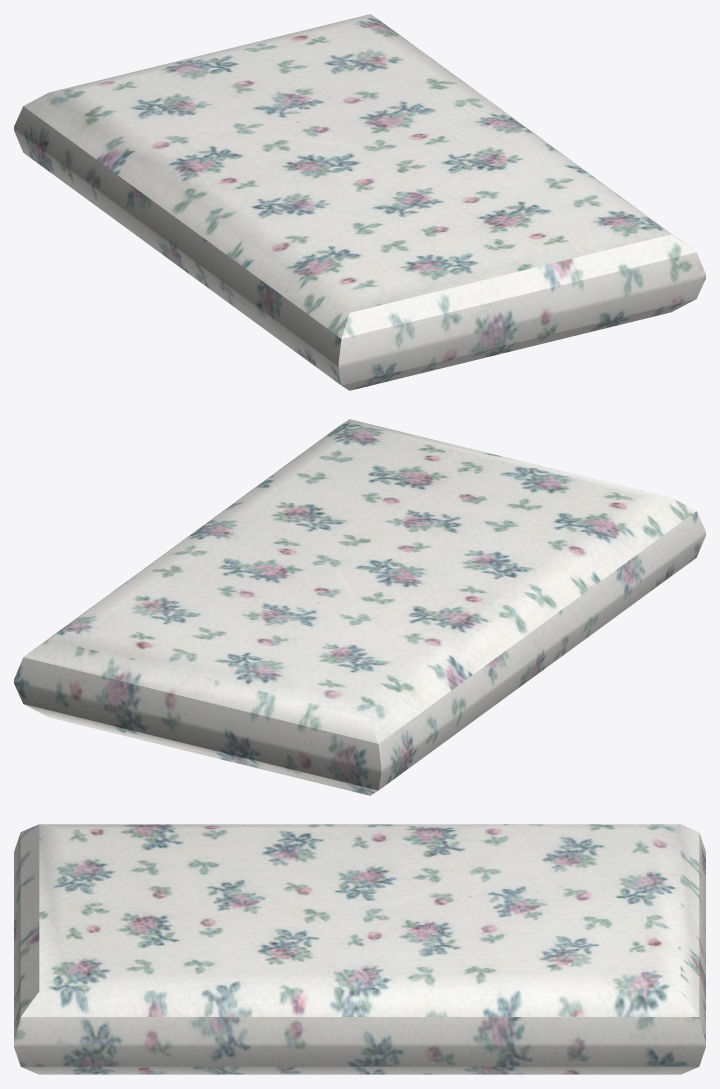
The model's file is pillow.gltf.
The picture shows the model from 3 angles, top to bottom: view 1: azimuth 30°, elevation 25°; view 2: azimuth 150°, elevation 25°; view 3: azimuth 270°, elevation 25°; orthographic projection. The views are drawn at different scales.
Parts seen in each view (by area): view 1: Cube.001; view 2: Cube.001; view 3: Cube.001.
Part boxes in pixels (bbox=[...]): Cube.001: bbox=[14, 14, 705, 390]; Cube.001: bbox=[14, 419, 705, 795]; Cube.001: bbox=[14, 824, 705, 1074].
Bounding box in the file's own units: 0.4988 × 0.116 × 0.7629.
Materials: 1 (1 with a texture image).
